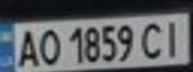1: (63, 24, 84, 64)
5: (100, 21, 121, 63)
8: (81, 22, 103, 63)
9: (115, 20, 139, 62)
A: (12, 26, 42, 69)
C: (136, 19, 169, 60)
I: (157, 17, 190, 57)
O: (33, 26, 63, 66)
